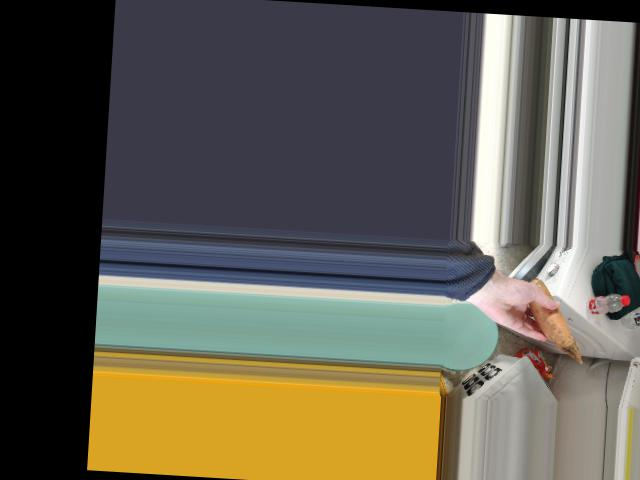sweet_potato: (518, 280, 566, 334)
